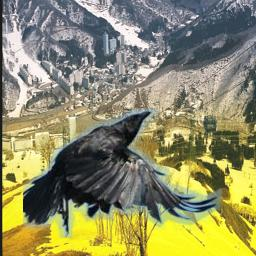Crow: (23, 108, 222, 238)
